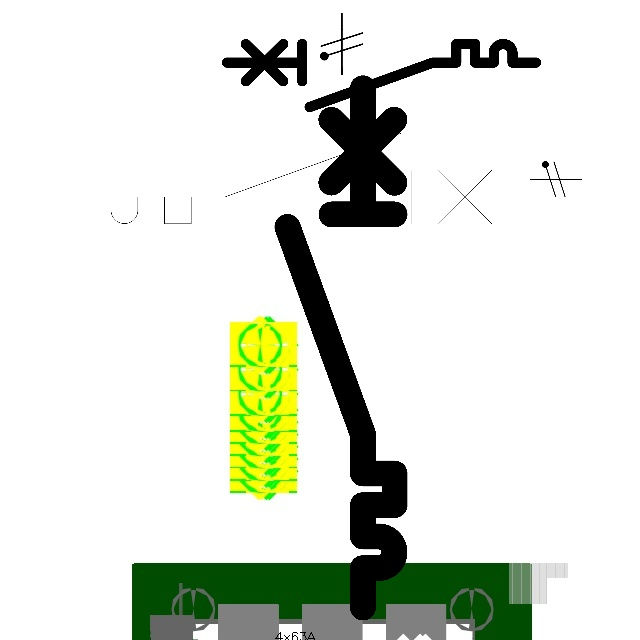interruptor_termomagnetico: (274, 74, 408, 620), (66, 122, 529, 235), (219, 36, 544, 115)
